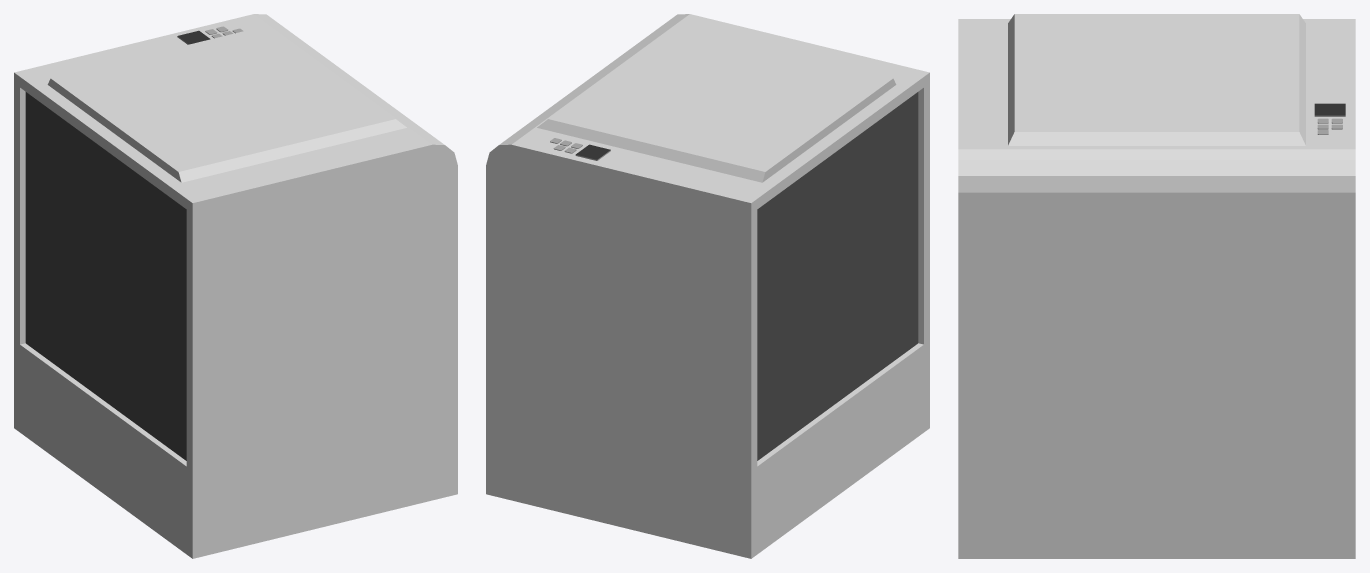
The model's file is dryer.gltf.
3 views of the same model, side by side, from view 1: azimuth 30°, elevation 25°; view 2: azimuth 150°, elevation 25°; view 3: azimuth 270°, elevation 25° (orthographic). The views are drawn at different scales.
Parts seen in each view (by area): view 1: Dryer Machine.001, Dryer Machine Ac.001; view 2: Dryer Machine.001, Dryer Machine Ac.001; view 3: Dryer Machine.001, Dryer Machine Ac.001.
Boxes of the visible parts, x1,y1,x2,y2 form: Dryer Machine.001: [14, 14, 457, 558]; Dryer Machine Ac.001: [47, 25, 406, 182]; Dryer Machine.001: [486, 14, 929, 558]; Dryer Machine Ac.001: [537, 25, 896, 182]; Dryer Machine.001: [958, 19, 1355, 558]; Dryer Machine Ac.001: [1008, 14, 1305, 145].
Bounding box in the file's own units: 0.7403 × 0.9755 × 0.8636.
1 material, 1 textured.
